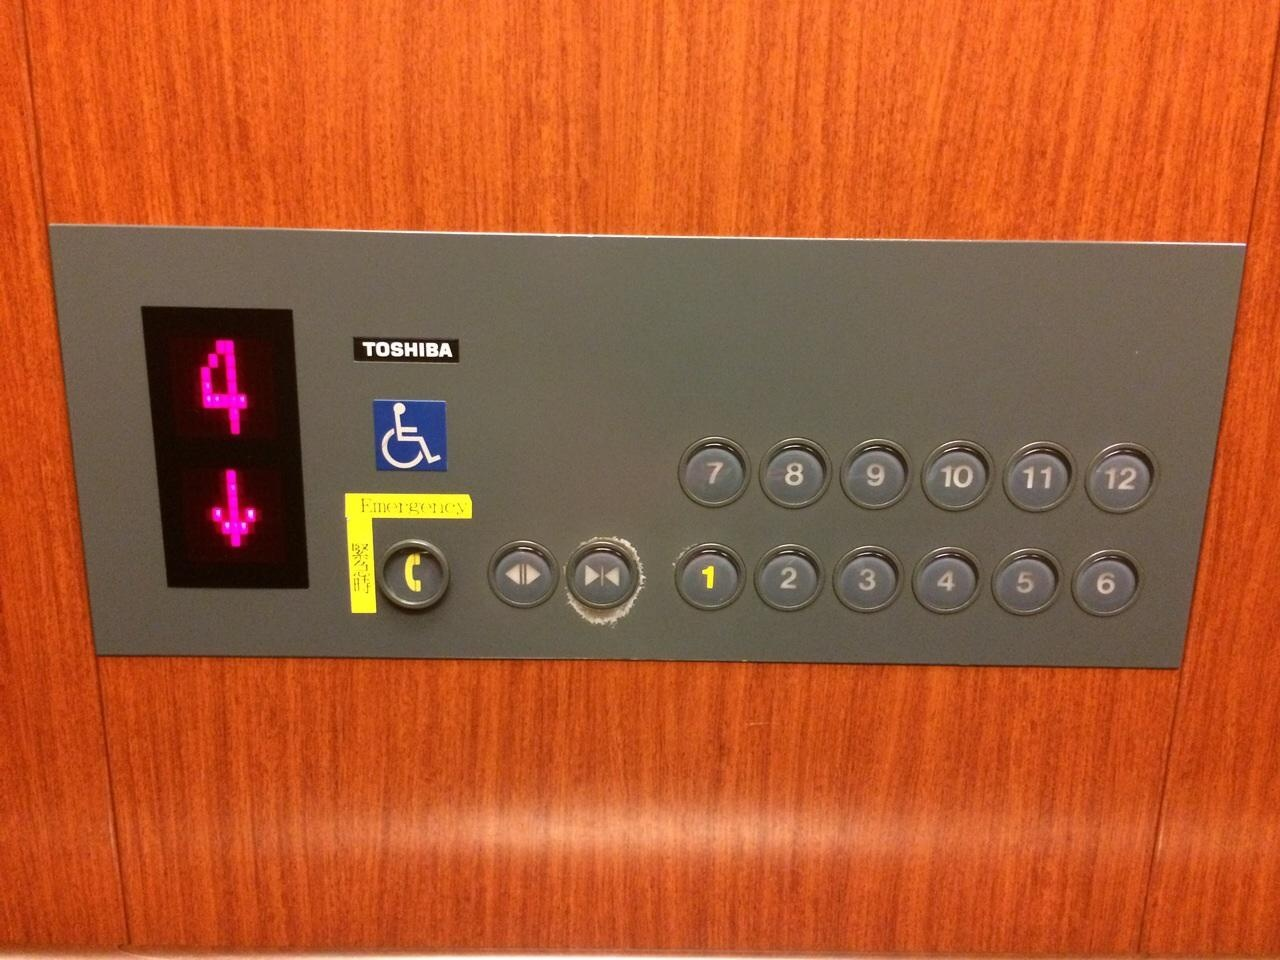1: (671, 541, 748, 612)
10: (919, 437, 995, 512)
11: (1002, 439, 1078, 512)
12: (1085, 442, 1159, 514)
2: (752, 541, 826, 611)
3: (831, 543, 906, 614)
4: (910, 544, 984, 614)
5: (989, 546, 1064, 616)
6: (1070, 547, 1144, 618)
7: (676, 434, 752, 509)
8: (757, 436, 833, 509)
9: (839, 438, 911, 509)
CH: (371, 398, 450, 474)
call: (374, 536, 452, 612)
close: (565, 538, 640, 610)
led: (140, 306, 310, 591)
open: (487, 538, 560, 610)
